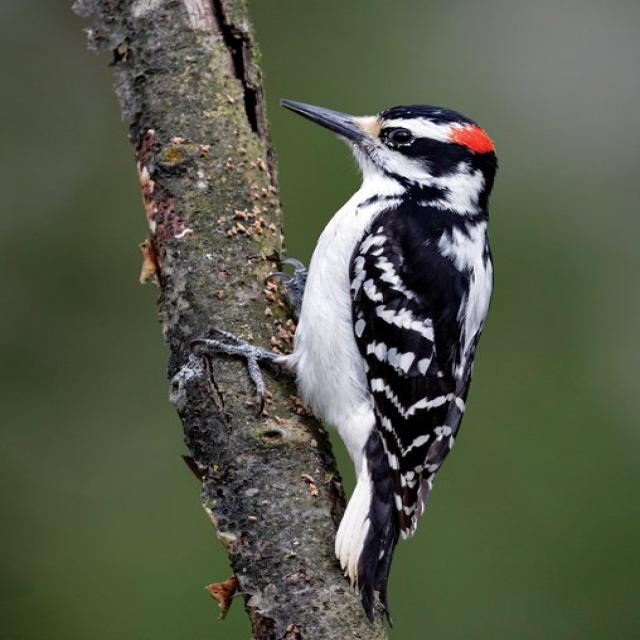Woodpecker: (215, 80, 512, 612)
